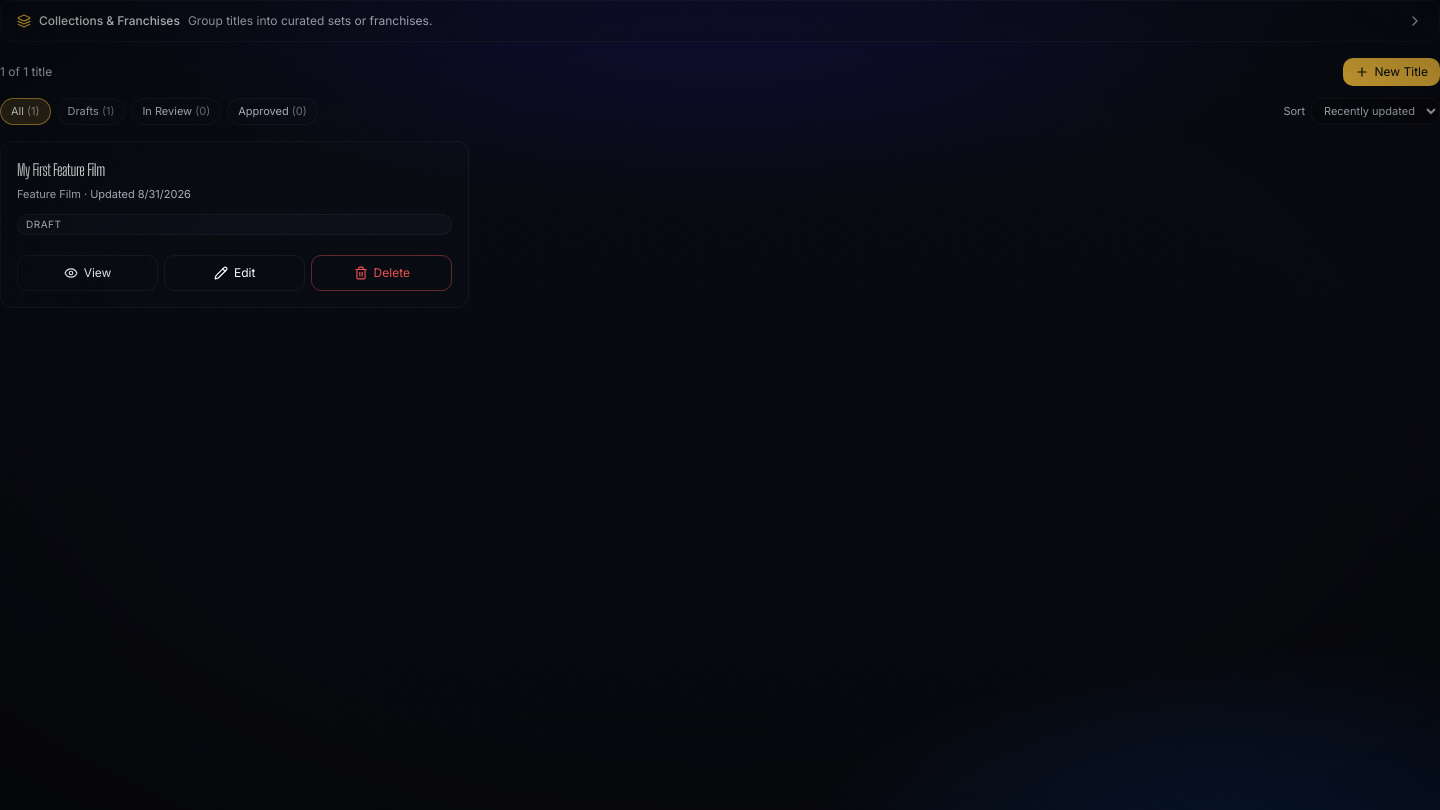
Stop 6 — Submit title to Admin › submits successfully with only a trailer attached and no main film
Later steps or results of the test are not shown.
Click the button "edit ": click(235, 273) [164,255,305,291]
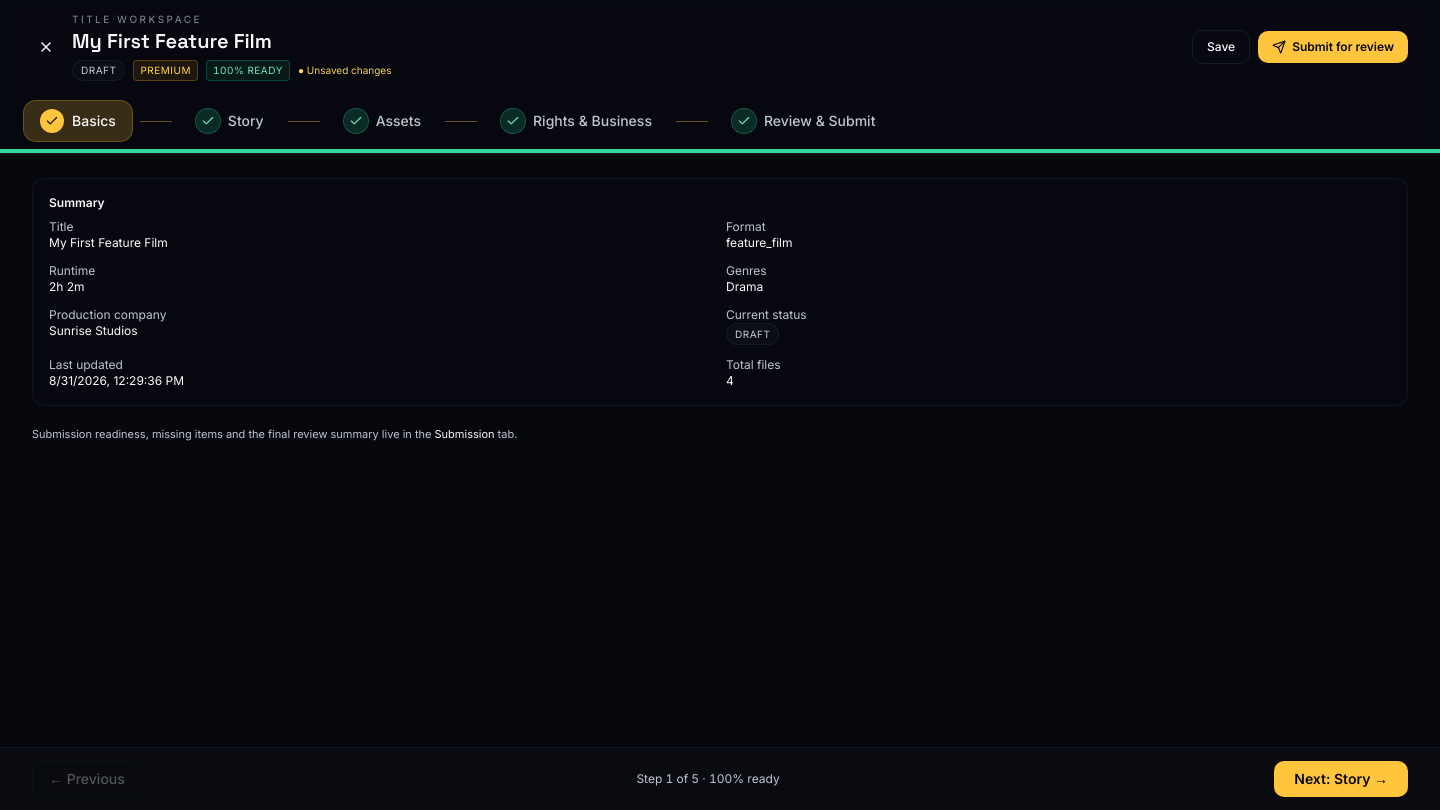
Expected: the element with test id "title-editor" is shown
Expected: the button "Submit for review" is enabled, [1258,30,1408,62]
